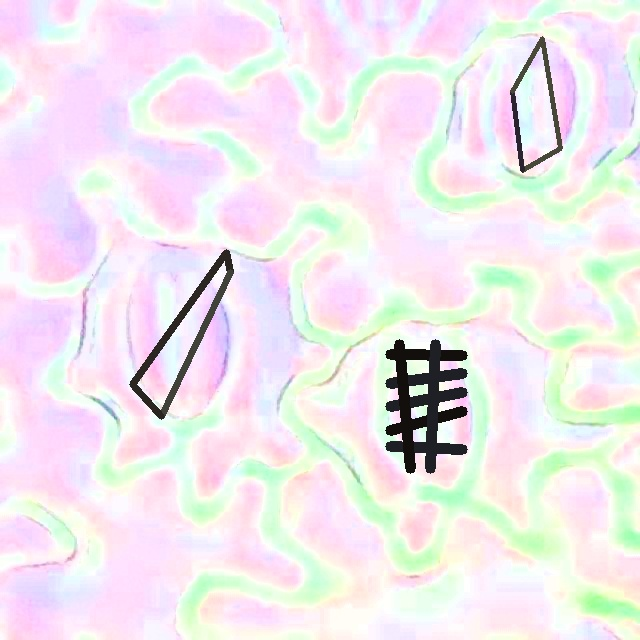close: (129, 249, 233, 418), (385, 340, 467, 472)
open: (511, 37, 562, 171)
